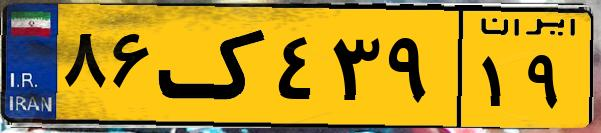1: (475, 38, 525, 113)
3: (330, 28, 385, 110)
4: (270, 28, 330, 110)
6: (110, 28, 158, 98)
8: (57, 26, 110, 100)
9: (385, 28, 445, 110), (525, 38, 570, 115)
ک: (158, 12, 270, 120)
